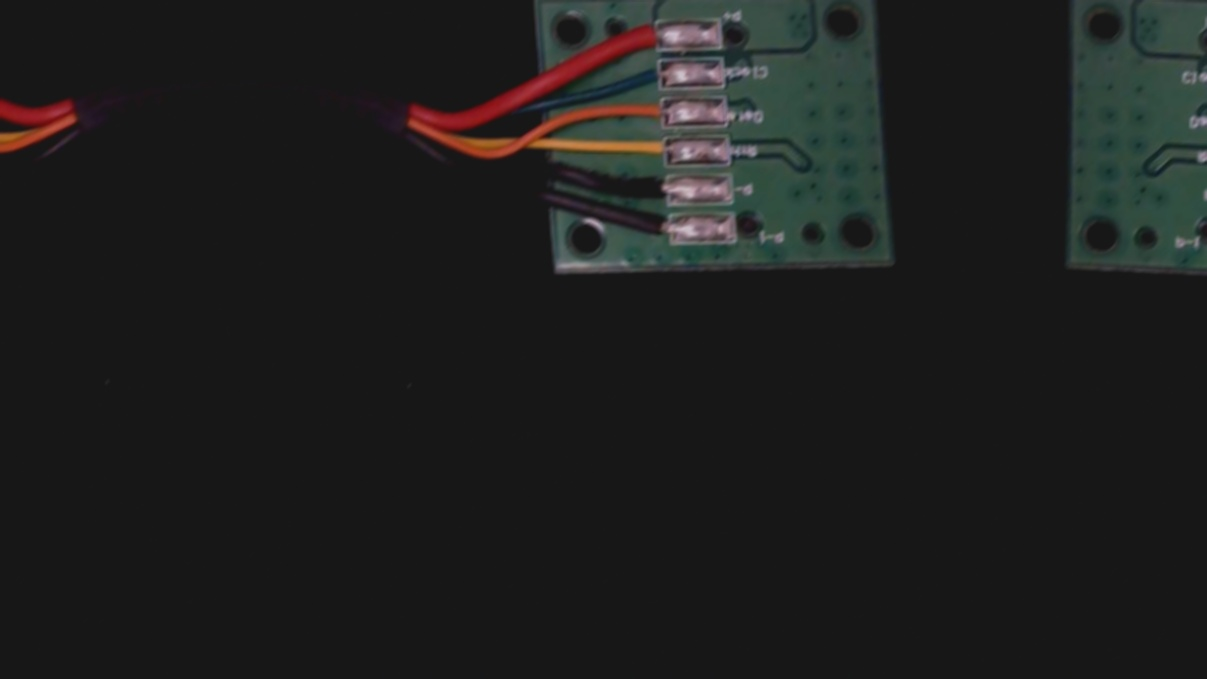Black: (609, 171, 685, 206)
Black1: (616, 213, 685, 247)
Green: (604, 57, 677, 93)
Orange: (604, 95, 679, 128)
Red: (602, 20, 675, 55)
Yellow: (604, 133, 681, 168)
